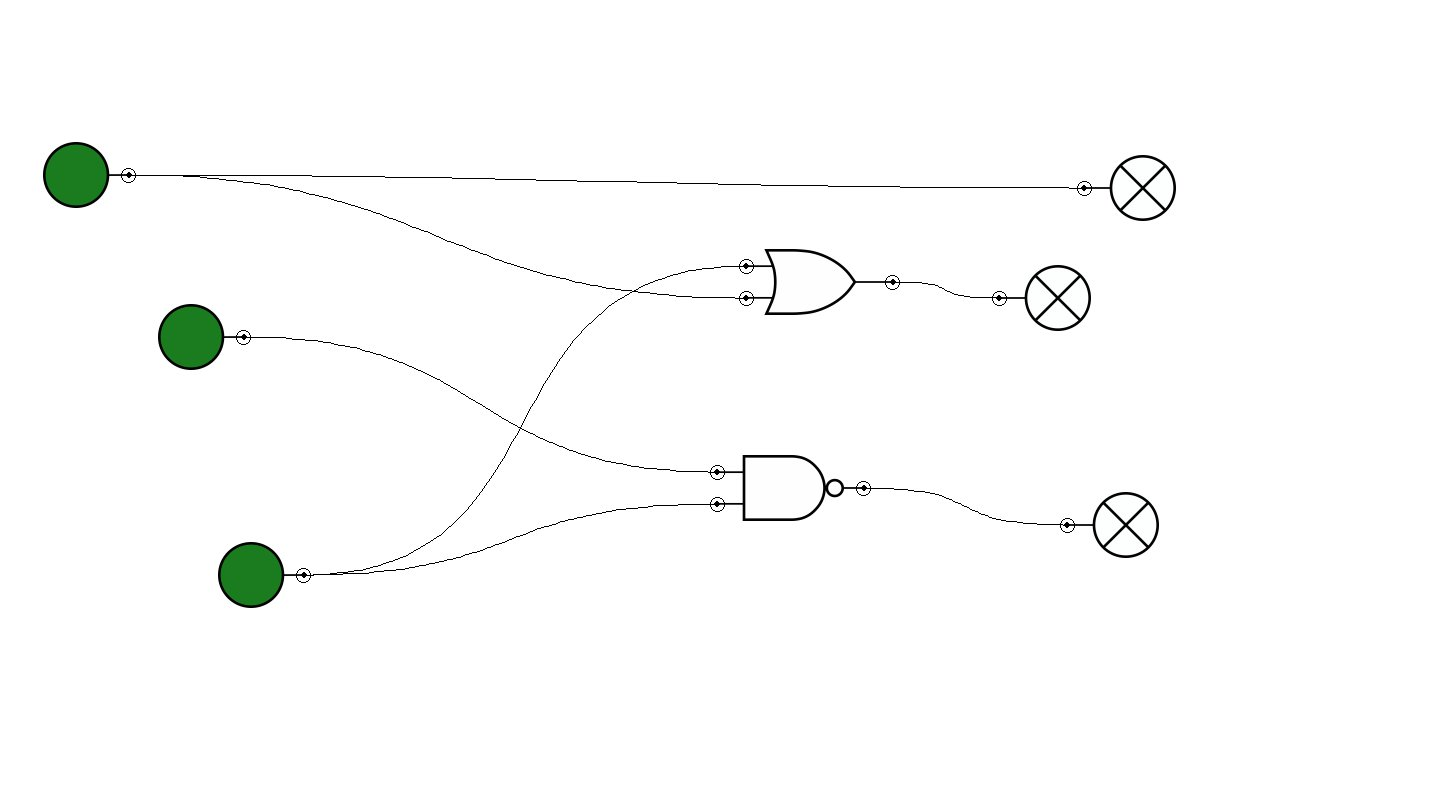bulb: (992, 265, 1091, 331), (1060, 492, 1159, 558), (1077, 155, 1176, 221)
nand: (710, 455, 871, 521)
or: (739, 249, 900, 315)
switch_True: (158, 304, 251, 370), (43, 142, 136, 208), (218, 542, 311, 608)
